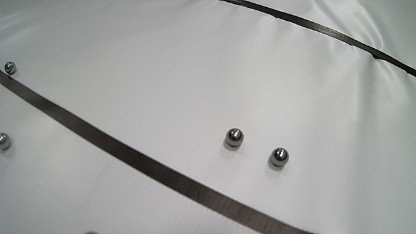ironball: (269, 147, 289, 167), (225, 128, 244, 147), (0, 132, 11, 150), (4, 61, 16, 74), (83, 232, 99, 234)
